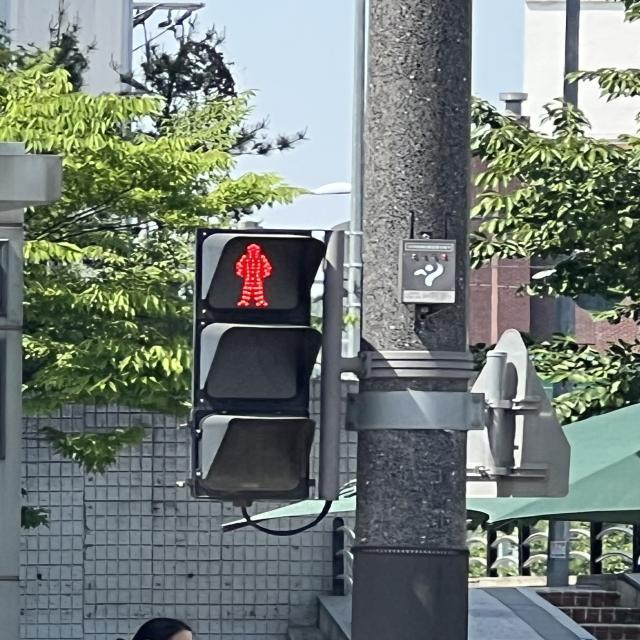red-light: (202, 236, 320, 500)
